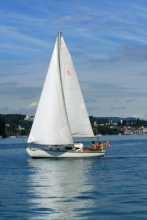fanchuan: (22, 29, 117, 162)
